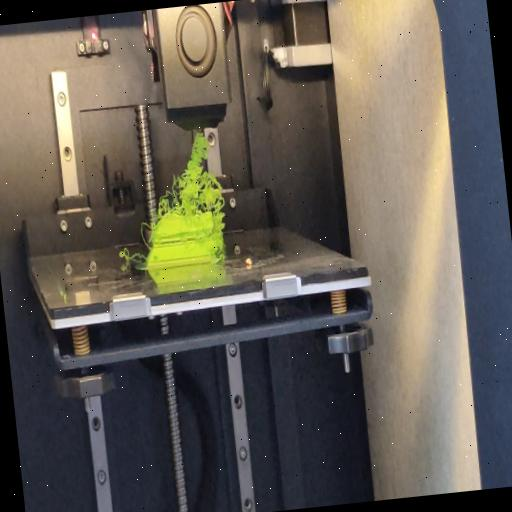spaghetti: (148, 127, 226, 223), (213, 217, 231, 262), (116, 244, 144, 265), (138, 218, 154, 252)
